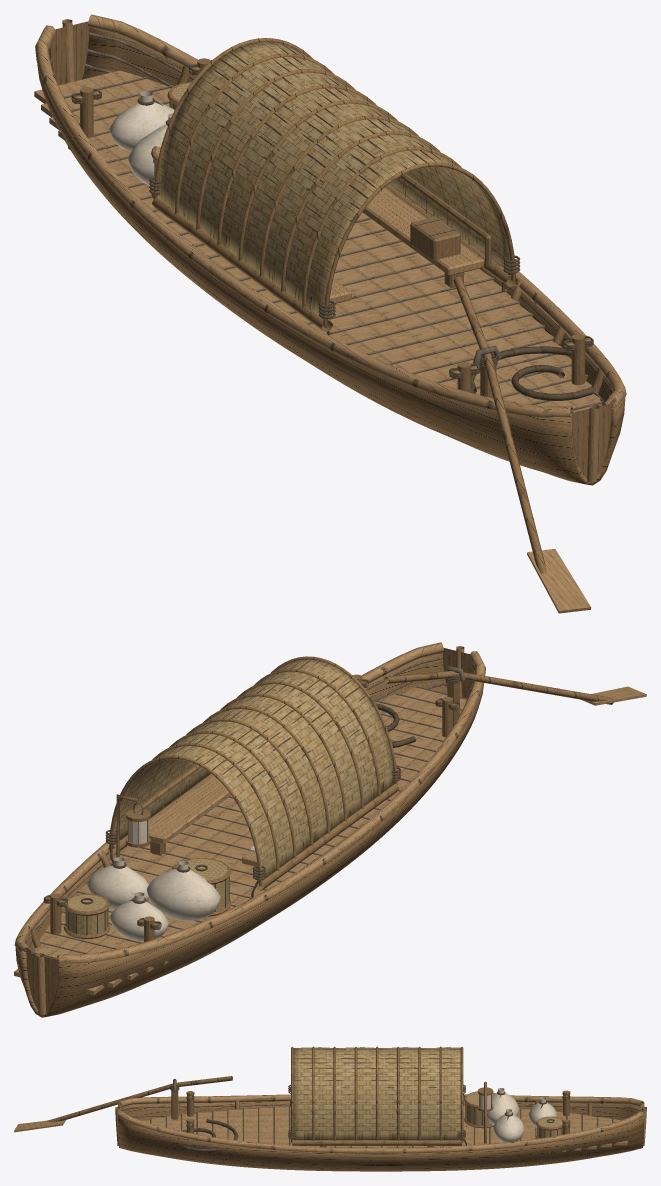
3 renders of one model, top to bottom at view 1: azimuth 30°, elevation 25°; view 2: azimuth 150°, elevation 25°; view 3: azimuth 270°, elevation 25°, orthographic. The views are drawn at different scales.
Parts seen in each view (by area): view 1: Bamboo_canopy_rib; view 2: Bamboo_canopy_rib; view 3: Bamboo_canopy_rib.
Part boxes in pixels (box(x1,y1,x2,y2)): Bamboo_canopy_rib: box(34, 14, 626, 613); Bamboo_canopy_rib: box(14, 642, 646, 1017); Bamboo_canopy_rib: box(14, 1046, 646, 1171).
Size of the model in its own units: 2.79 by 2.37 by 12.12.
Materials: 1 (1 with a texture image).
